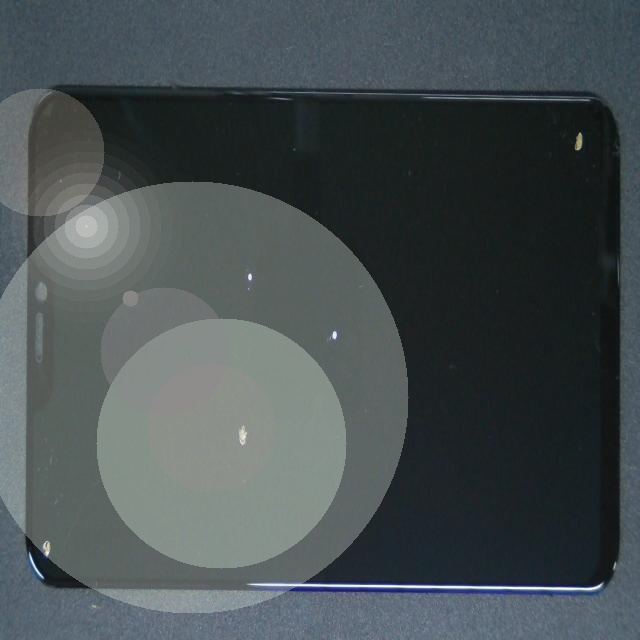stain: (177, 113, 494, 476), (136, 230, 357, 615), (123, 99, 352, 395), (310, 17, 640, 157), (17, 201, 56, 640)
